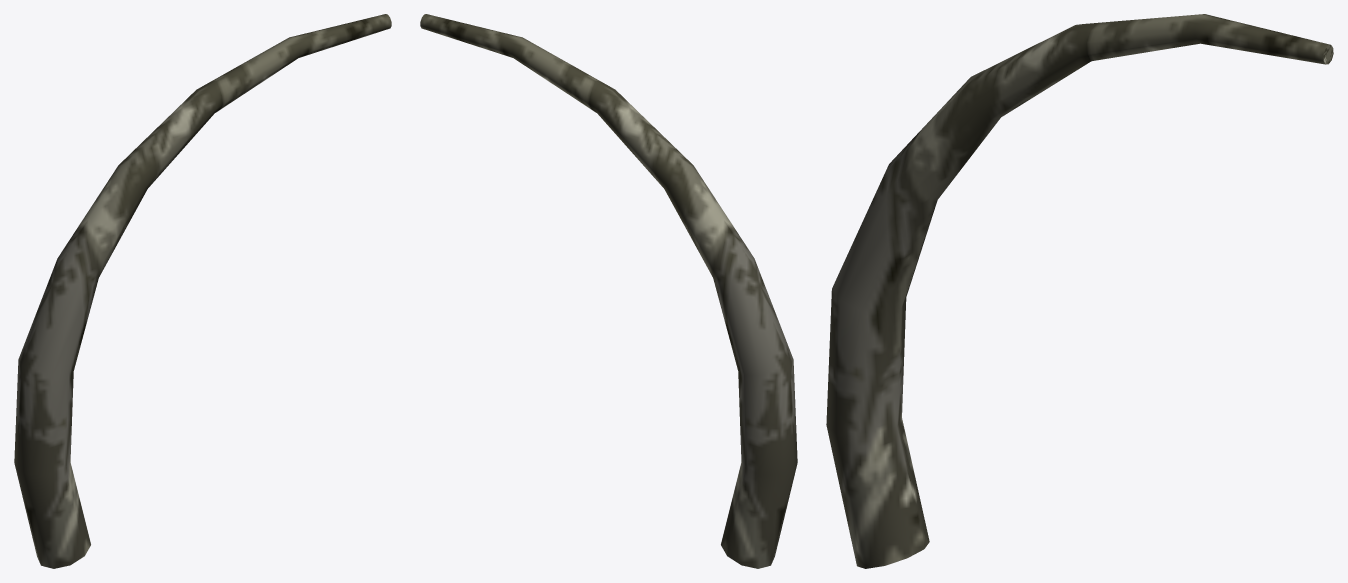
The model's file is Medallion04.fbx.
3 views of the same model, side by side, from view 1: azimuth 30°, elevation 25°; view 2: azimuth 150°, elevation 25°; view 3: azimuth 330°, elevation 25° (orthographic). The views are drawn at different scales.
Visible parts, largest first — view 1: Medalion04; view 2: Medalion04; view 3: Medalion04.
Boxes of the visible parts, <box> form: Medalion04: <box>14,14,391,568</box>; Medalion04: <box>420,14,797,568</box>; Medalion04: <box>826,14,1333,568</box>.
Size of the model in its own units: 0.7711 by 0.9291 by 0.0979.
